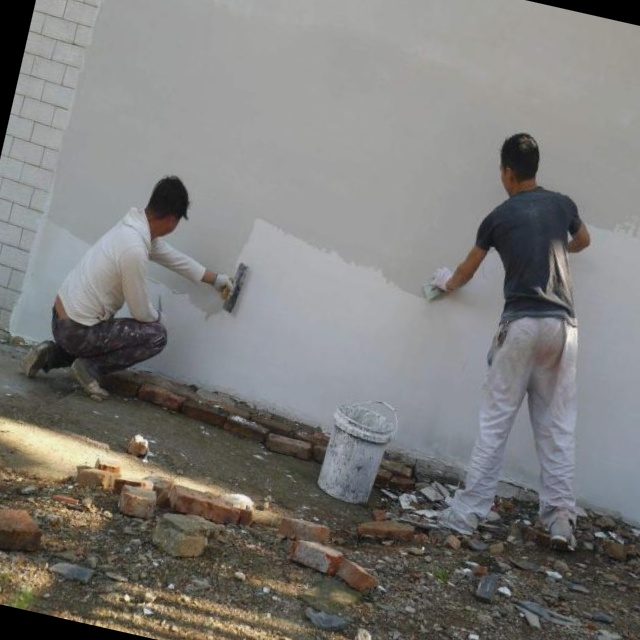Sin_Casco_Mascarrilla: (492, 127, 546, 198), (143, 170, 197, 239)
